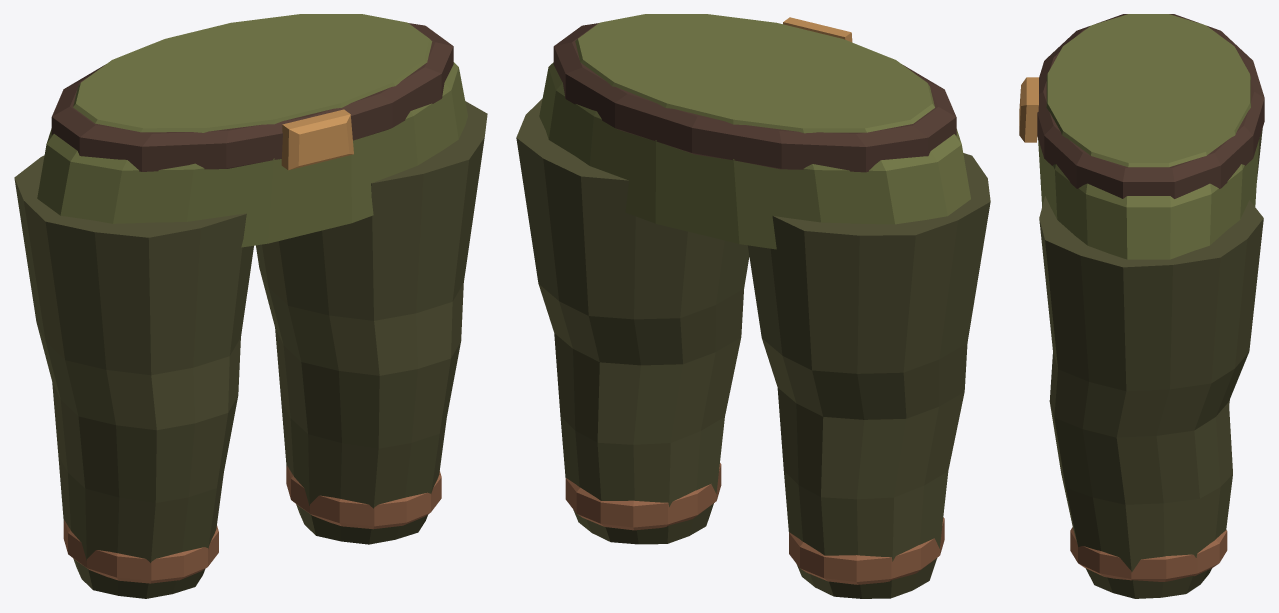
The model's file is Breeches.obj.
3 views of the same model, side by side, from view 1: azimuth 30°, elevation 25°; view 2: azimuth 150°, elevation 25°; view 3: azimuth 270°, elevation 25° (orthographic). The views are drawn at different scales.
Visible parts, largest first — view 1: Body; view 2: Body; view 3: Body.
Part boxes in pixels (box(x1,y1,x2,y2)): Body: box(14, 14, 487, 598); Body: box(516, 14, 990, 598); Body: box(1019, 14, 1264, 598).
Bounding box in the file's own units: 0.7657 × 0.783 × 0.4.
1 material, 1 textured.
